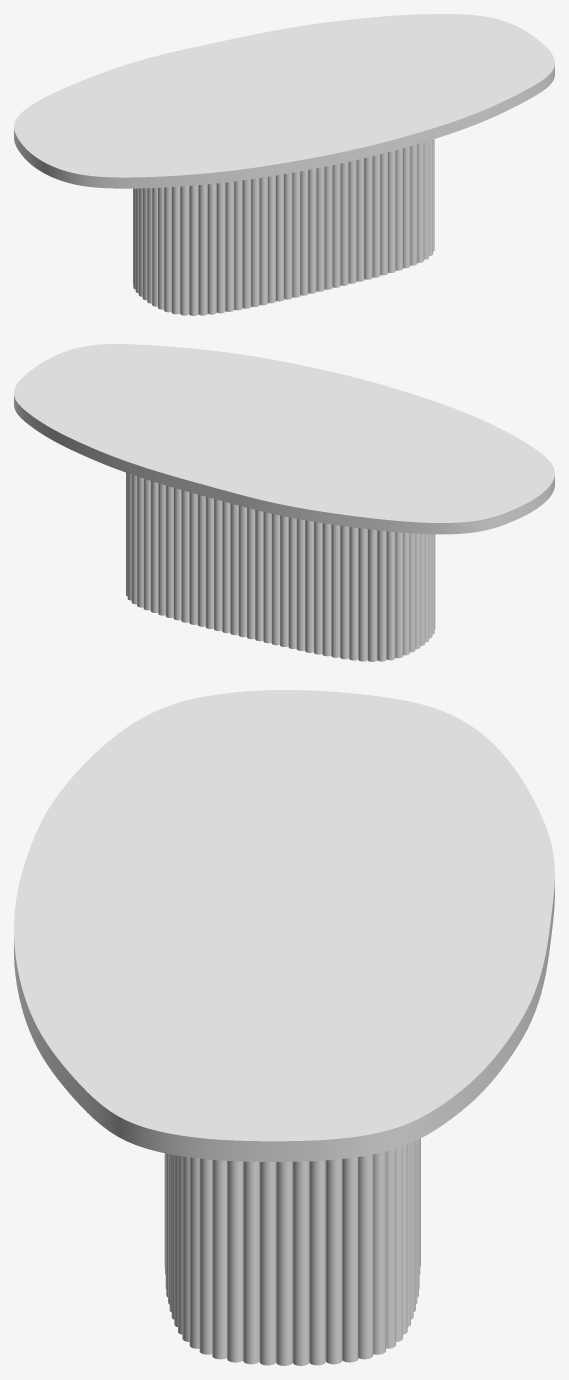
Rendered from purewhite_danish_standard_newtable.glb.
3 renders of one model, top to bottom at view 1: azimuth 30°, elevation 25°; view 2: azimuth 150°, elevation 25°; view 3: azimuth 270°, elevation 25°, orthographic. The views are drawn at different scales.
Visible parts, largest first — view 1: standard_danish, newtable; view 2: standard_danish, newtable; view 3: standard_danish, newtable.
Part boxes in pixels (box(x1,y1,x2,y2)): standard_danish: box(14, 14, 554, 188); newtable: box(133, 139, 434, 315); standard_danish: box(14, 344, 554, 534); newtable: box(126, 472, 435, 661); standard_danish: box(14, 690, 554, 1161); newtable: box(164, 1138, 420, 1365).
Size of the model in its own units: 7.5 by 2.5 by 3.8.
2 materials, 2 textured.
